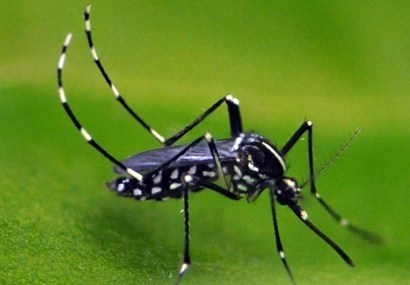dengue_mosquito: (57, 35, 359, 236)
